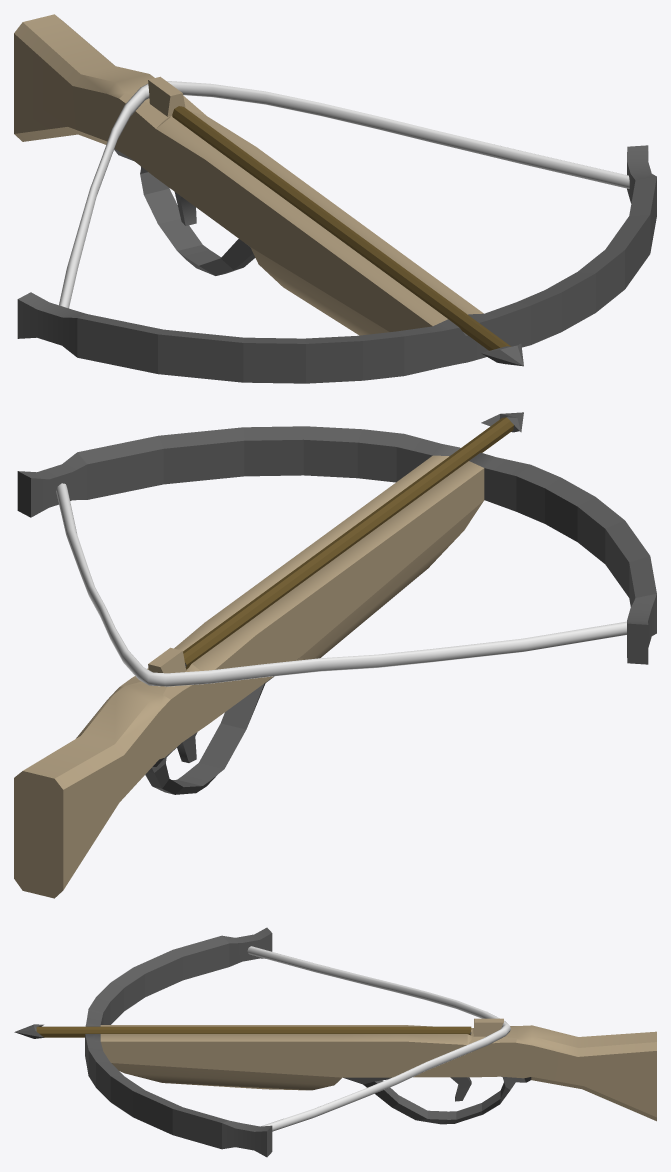
Rendered from Hero_Weapon_Crossbow.fbx.
3 views of the same model, one above another, from view 1: azimuth 30°, elevation 25°; view 2: azimuth 150°, elevation 25°; view 3: azimuth 270°, elevation 25° (orthographic). The views are drawn at different scales.
Parts seen in each view (by area): view 1: Crossbow; view 2: Crossbow; view 3: Crossbow.
Boxes of the visible parts, left/top/right/bottom form: Crossbow: left=14, top=14, right=656, bottom=383; Crossbow: left=14, top=412, right=656, bottom=898; Crossbow: left=14, top=927, right=656, bottom=1157.
Size of the model in its own units: 42.45 by 9.92 by 56.59.
